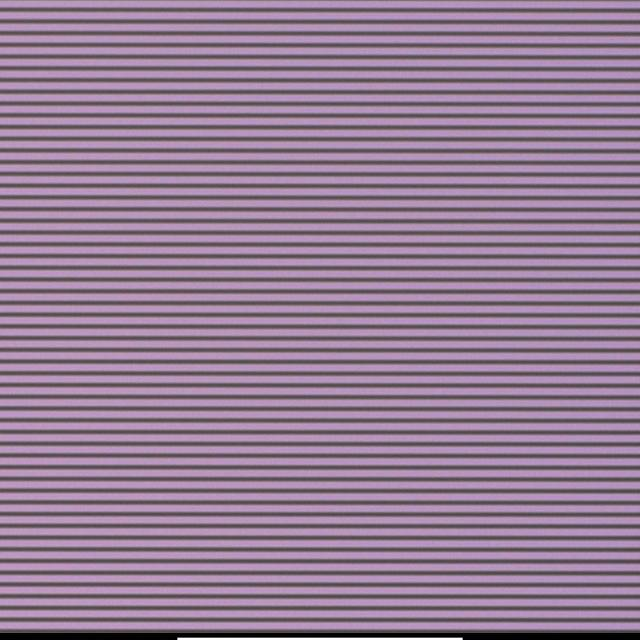nonvisual: (336, 313, 350, 327)
